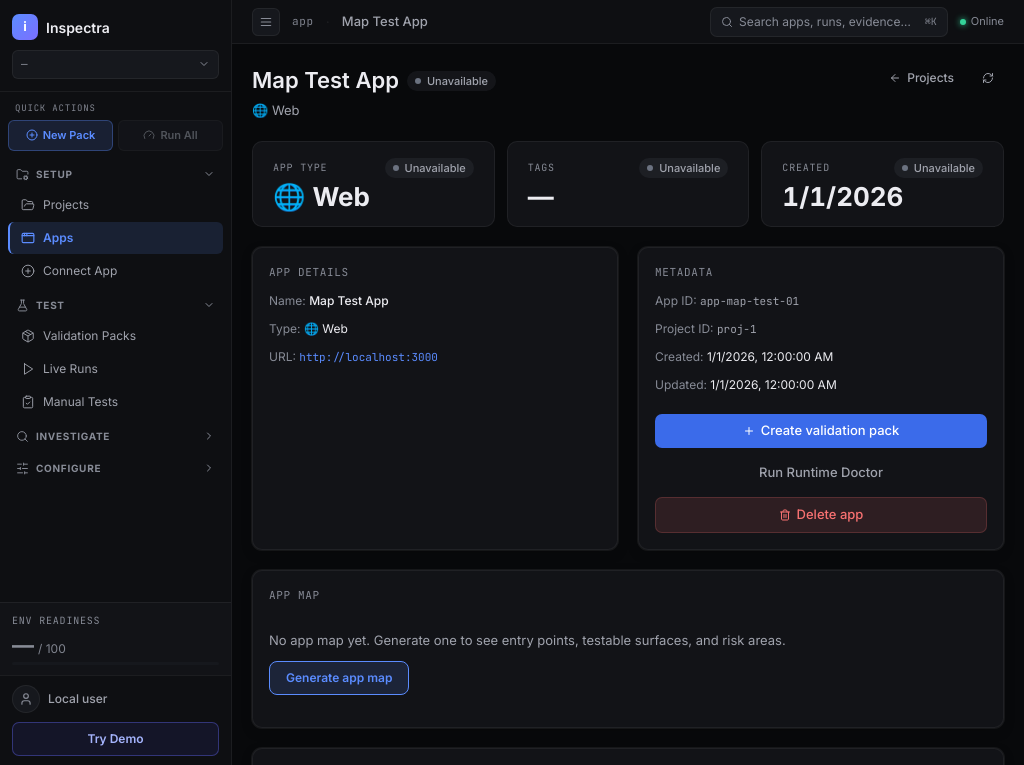
Test: AppDetailPage — App Map section › shows error when generate fails
What coordinates should you click on to do the following:
click the button with test id "generate-app-map-btn"
I would click on:
 (339, 678)
Its box is [269,660,409,694].
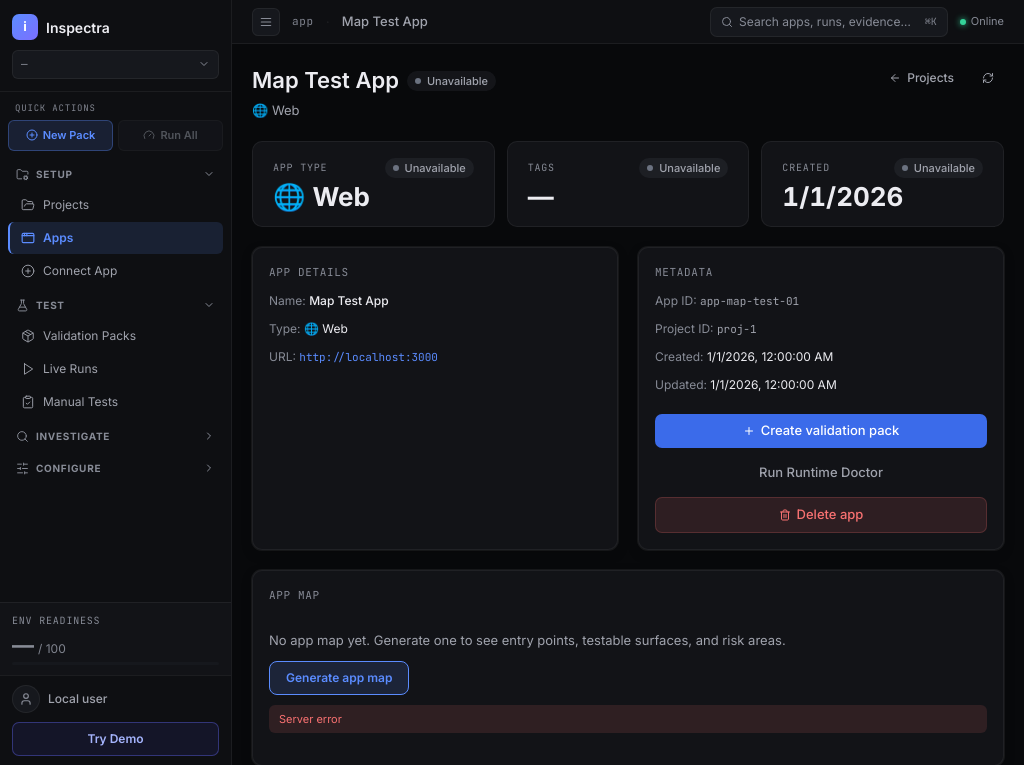
Expected: the element with test id "app-map-empty" is shown, [269,615,987,749]
Result: the text "Server error" is shown at [269,704,987,733]
